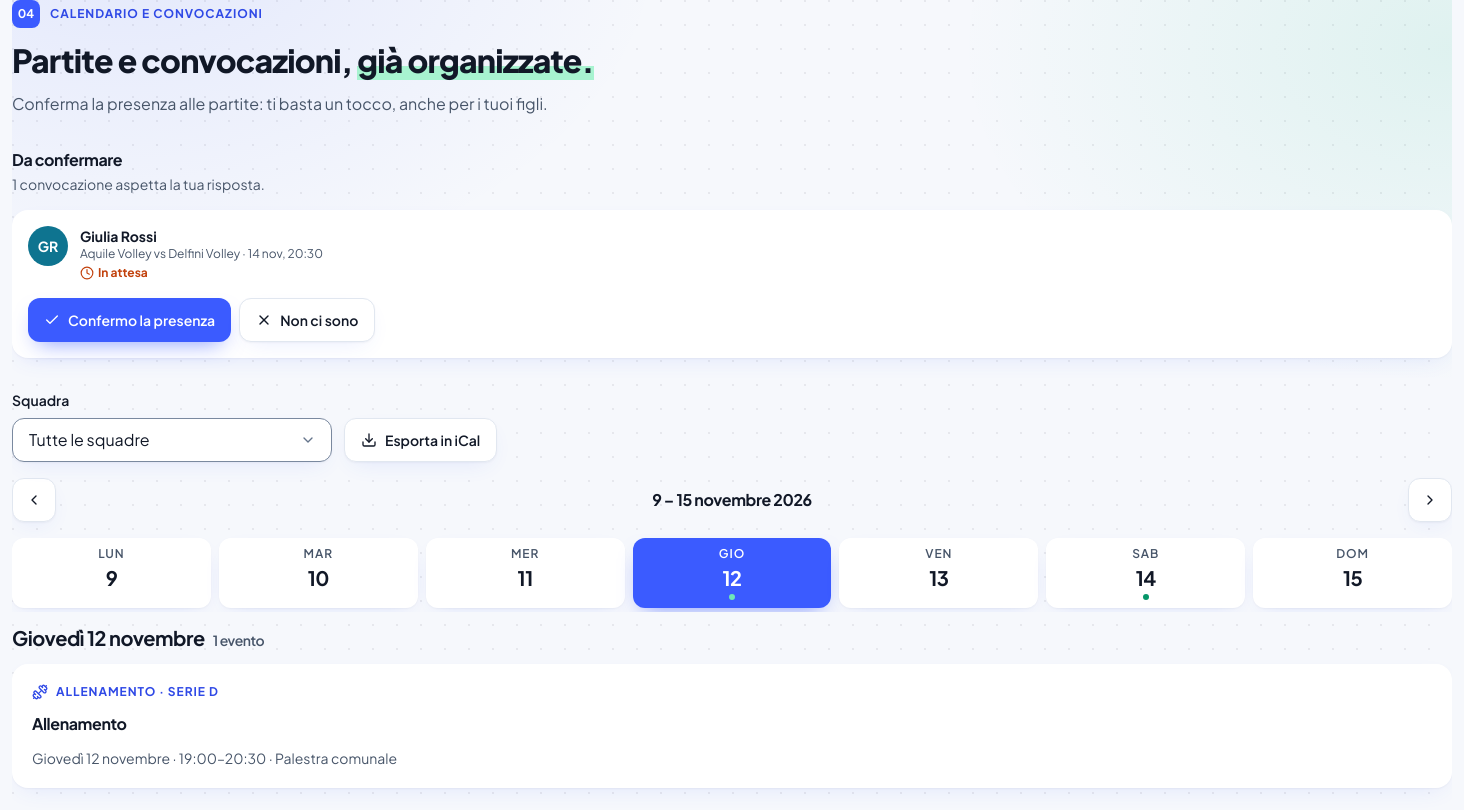
Scenario: convocations of an athlete or a guardian › declines with an optional reason
Click the button with aria-label "Non ci sono: Giulia Rossi" at coordinates (307, 320), box [239,298,375,342]
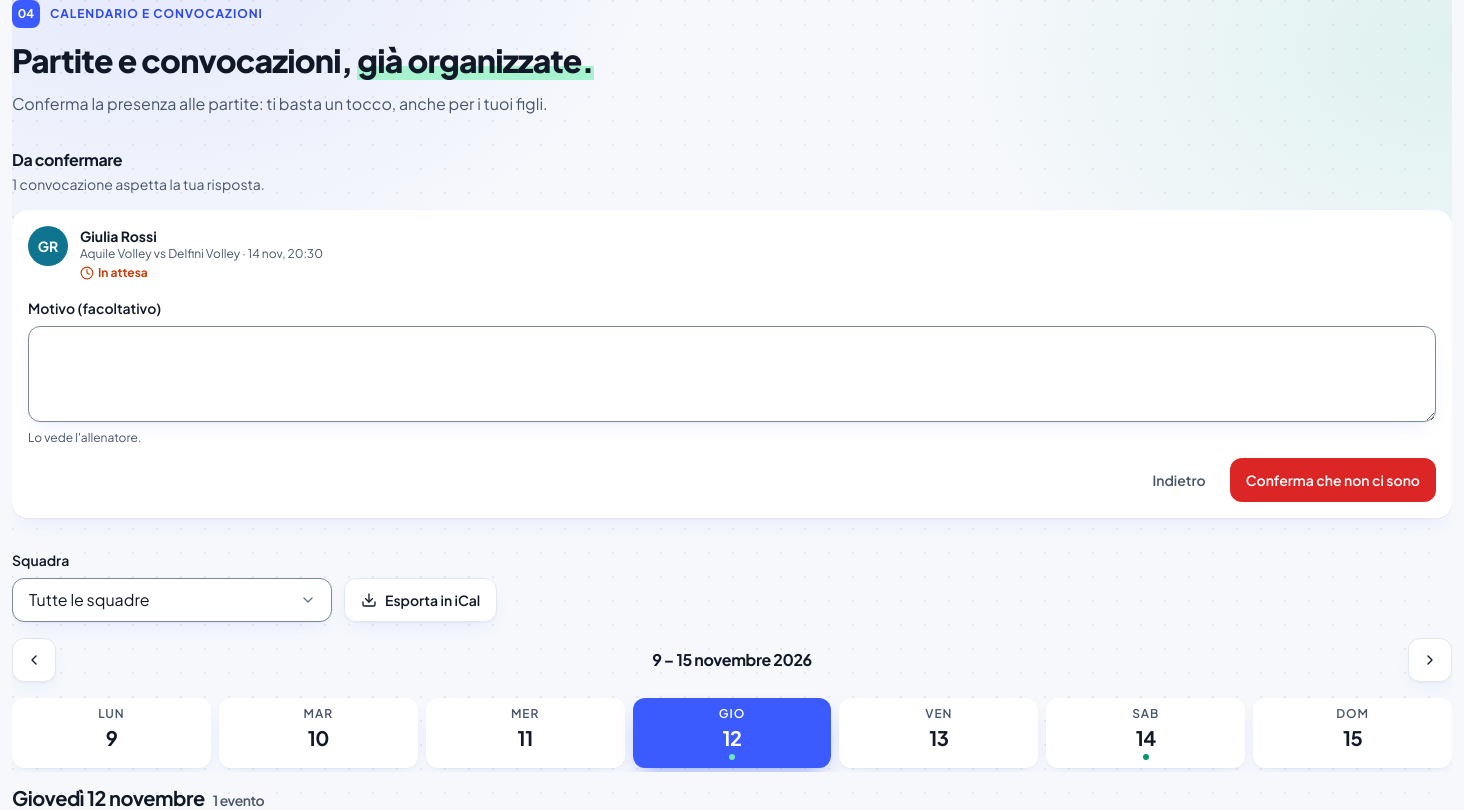
Result: the button "Confermo la presenza" is gone
Type "Ho l'esame" into the text box labelled "Motivo (facoltativo)" at coordinates (732, 374), box [28,326,1436,422]
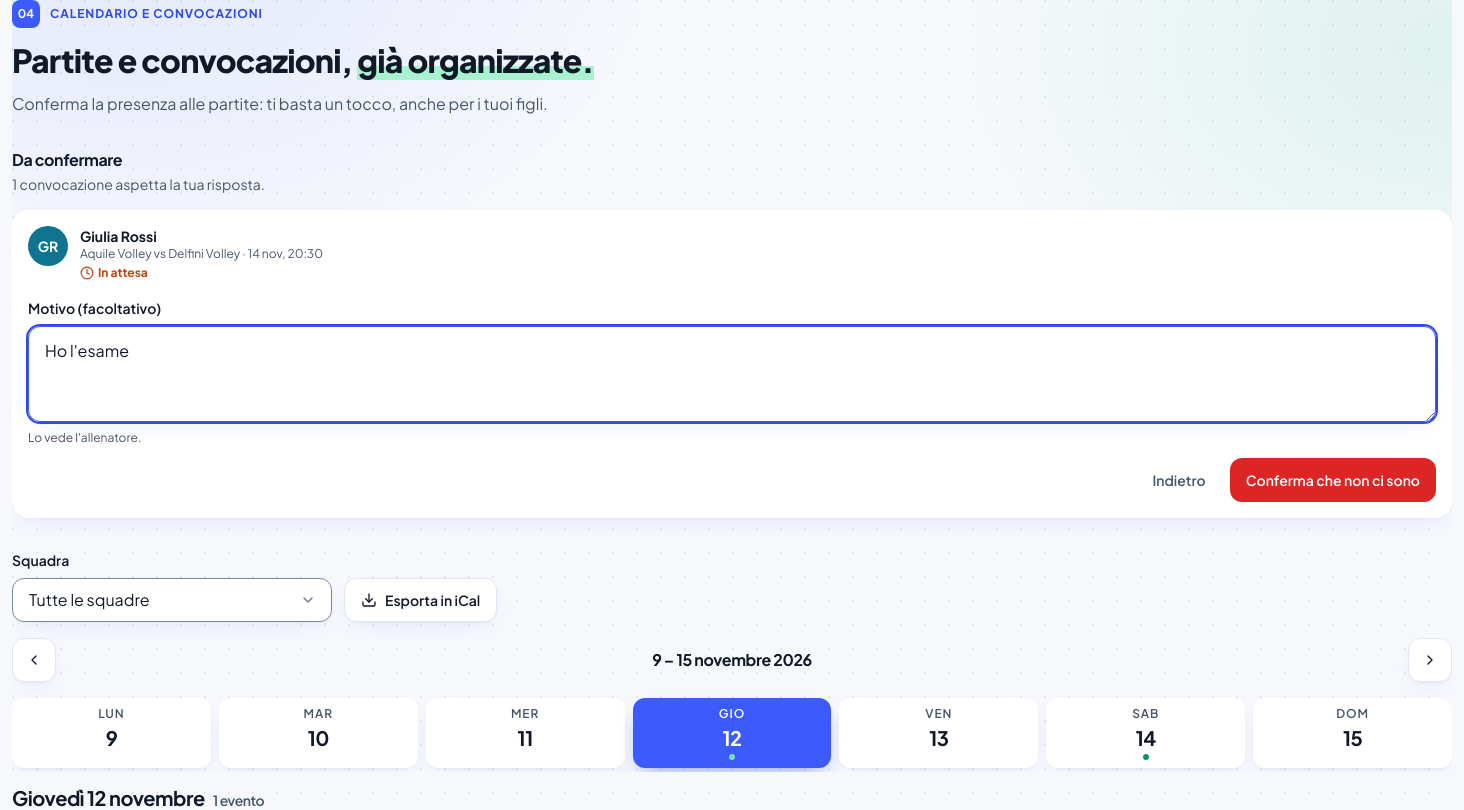
Click the button "Conferma che non ci sono" at coordinates (1333, 480), box [1230,458,1436,502]
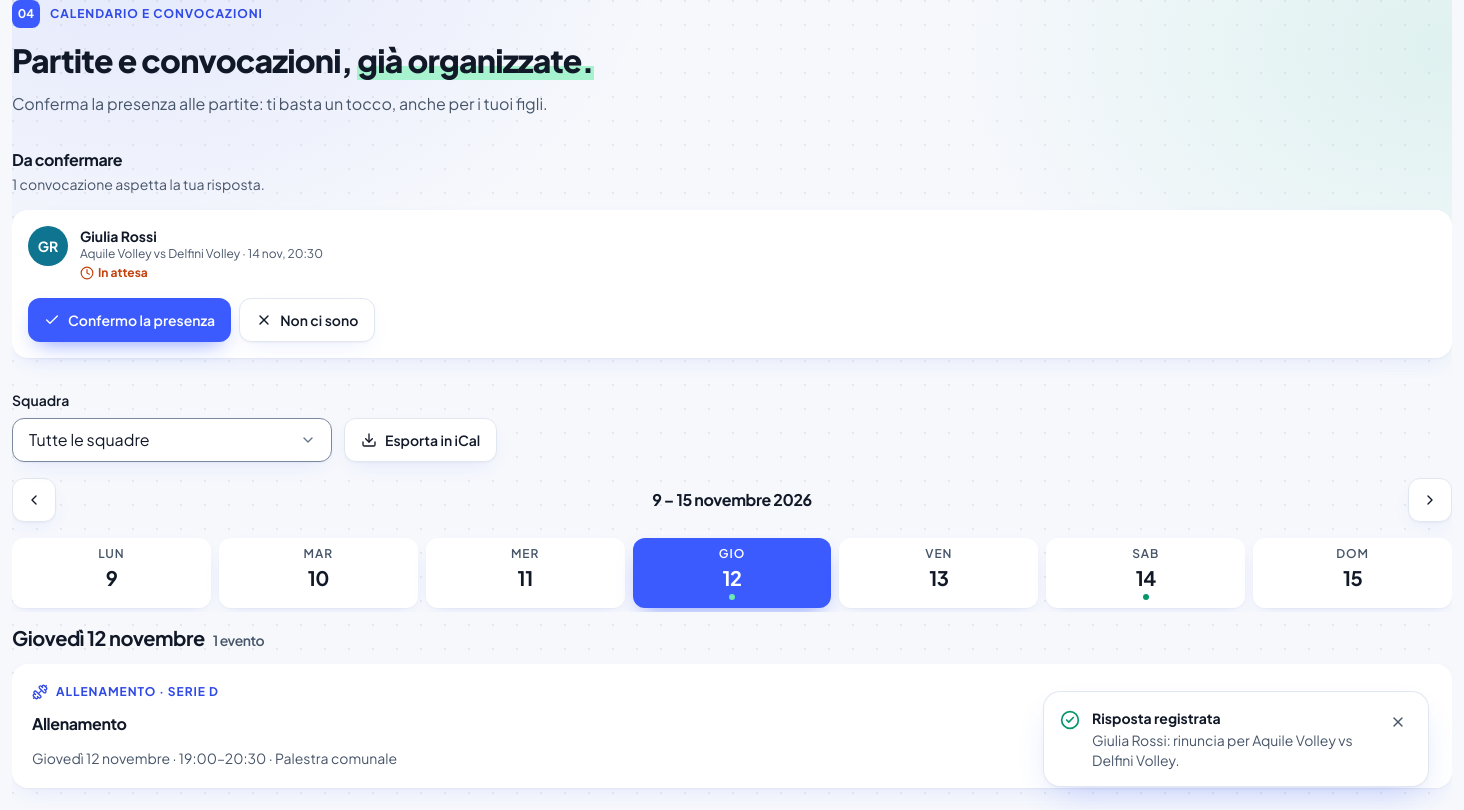
Result: the text "Risposta registrata" is shown at [1092,709,1221,727]
